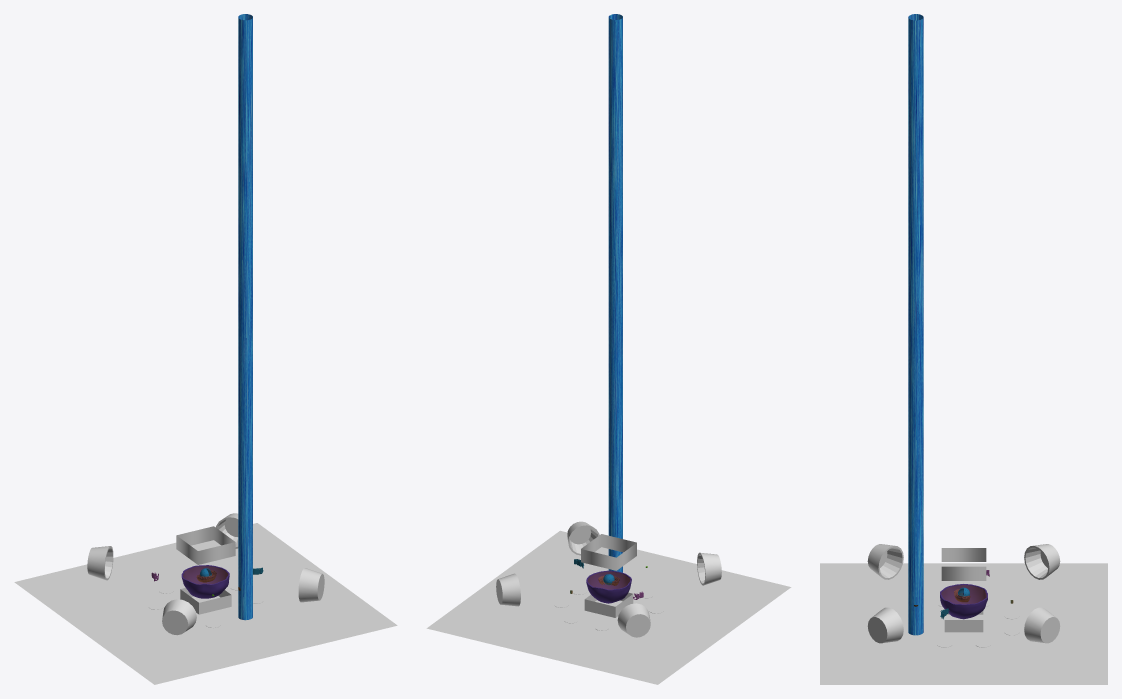
Rendered from Scene_Reference.FBX.
3 views of the same model, side by side, from view 1: azimuth 30°, elevation 25°; view 2: azimuth 150°, elevation 25°; view 3: azimuth 270°, elevation 25° (orthographic). The views are drawn at different scales.
Visible parts, largest first — view 1: Plane001, Cylinder017, Cylinder018, Plasma_Membrane_Animal_Cell_Cell, Cylinder012, Cylinder014, Cylinder016, Box001; view 2: Plane001, Cylinder017, Cylinder018, Plasma_Membrane_Animal_Cell_Cell, Cylinder016, Cylinder014, Cylinder012, Cylinder015, Box001; view 3: Plane001, Cylinder017, Cylinder018, Plasma_Membrane_Animal_Cell_Cell, Cylinder014, Cylinder015, Cylinder012, Cylinder016, Box001, Animal_Cell_Cell_Cell_Fluid.
Part boxes in pixels (<box>): Plane001: <box>14,523,397,684</box>; Cylinder017: <box>238,14,252,620</box>; Cylinder018: <box>176,526,235,564</box>; Plasma_Membrane_Animal_Cell_Cell: <box>181,565,229,598</box>; Cylinder012: <box>162,599,196,635</box>; Cylinder014: <box>298,568,324,602</box>; Cylinder016: <box>87,546,113,580</box>; Box001: <box>180,588,231,614</box>; Plane001: <box>426,530,791,684</box>; Cylinder017: <box>608,14,622,572</box>; Cylinder018: <box>581,534,636,570</box>; Plasma_Membrane_Animal_Cell_Cell: <box>586,570,631,603</box>; Cylinder016: <box>617,603,650,637</box>; Cylinder014: <box>567,521,599,555</box>; Cylinder012: <box>697,552,721,585</box>; Cylinder015: <box>496,573,520,606</box>; Box001: <box>584,592,633,617</box>; Plane001: <box>820,563,1107,684</box>; Cylinder017: <box>908,14,923,635</box>; Cylinder018: <box>941,548,986,580</box>; Plasma_Membrane_Animal_Cell_Cell: <box>940,584,987,619</box>; Cylinder014: <box>867,607,903,643</box>; Cylinder015: <box>1024,607,1060,643</box>; Cylinder012: <box>867,544,903,579</box>; Cylinder016: <box>1024,544,1060,579</box>; Box001: <box>944,611,983,632</box>; Animal_Cell_Cell_Cell_Fluid: <box>941,585,986,604</box>.
Bounding box in the file's own units: 3000 × 7069 × 3000.
